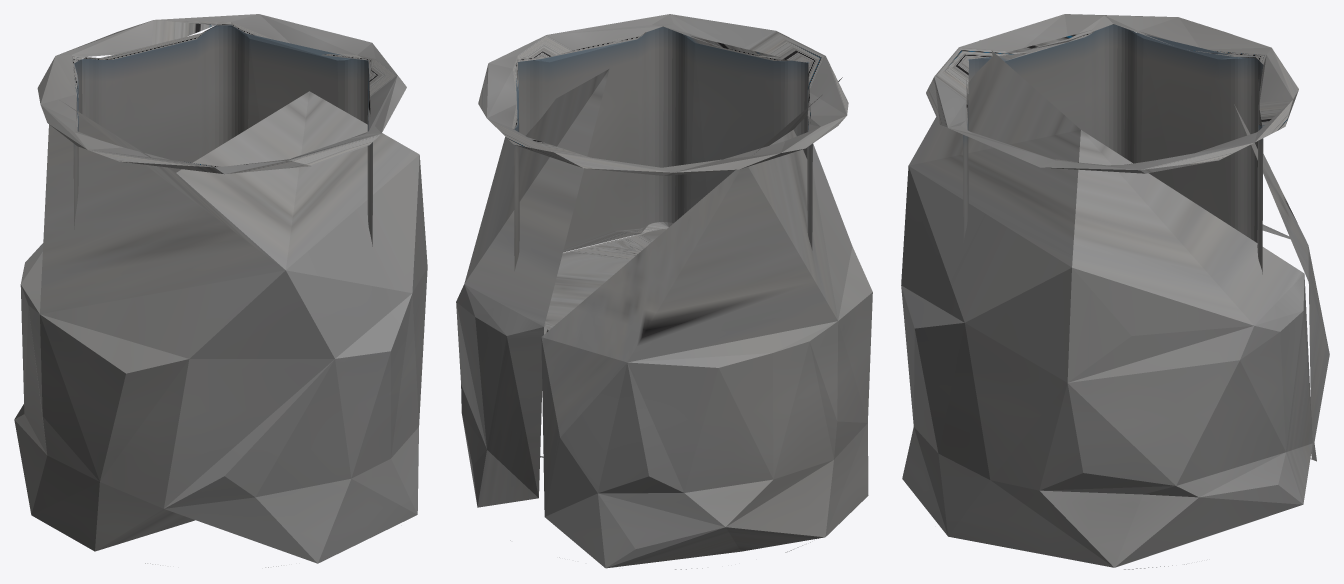
The model's file is handTool_socket_21_32in_b01.glb.
3 renders of one model, left to right at view 1: azimuth 30°, elevation 25°; view 2: azimuth 150°, elevation 25°; view 3: azimuth 270°, elevation 25°, orthographic.
Parts seen in each view (by area): view 1: geometry_0; view 2: geometry_0; view 3: geometry_0.
Boxes of the visible parts, x1,y1,x2,y2 form: geometry_0: (14,14,427,567); geometry_0: (456,14,872,569); geometry_0: (901,14,1329,569).
Bounding box in the file's own units: 0.4068 × 0.42 × 0.4088.
Materials: 1 (1 with a texture image).
